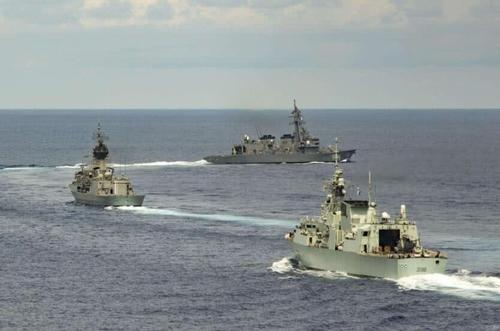warship: (275, 163, 451, 281), (203, 97, 363, 169), (63, 123, 146, 212)
